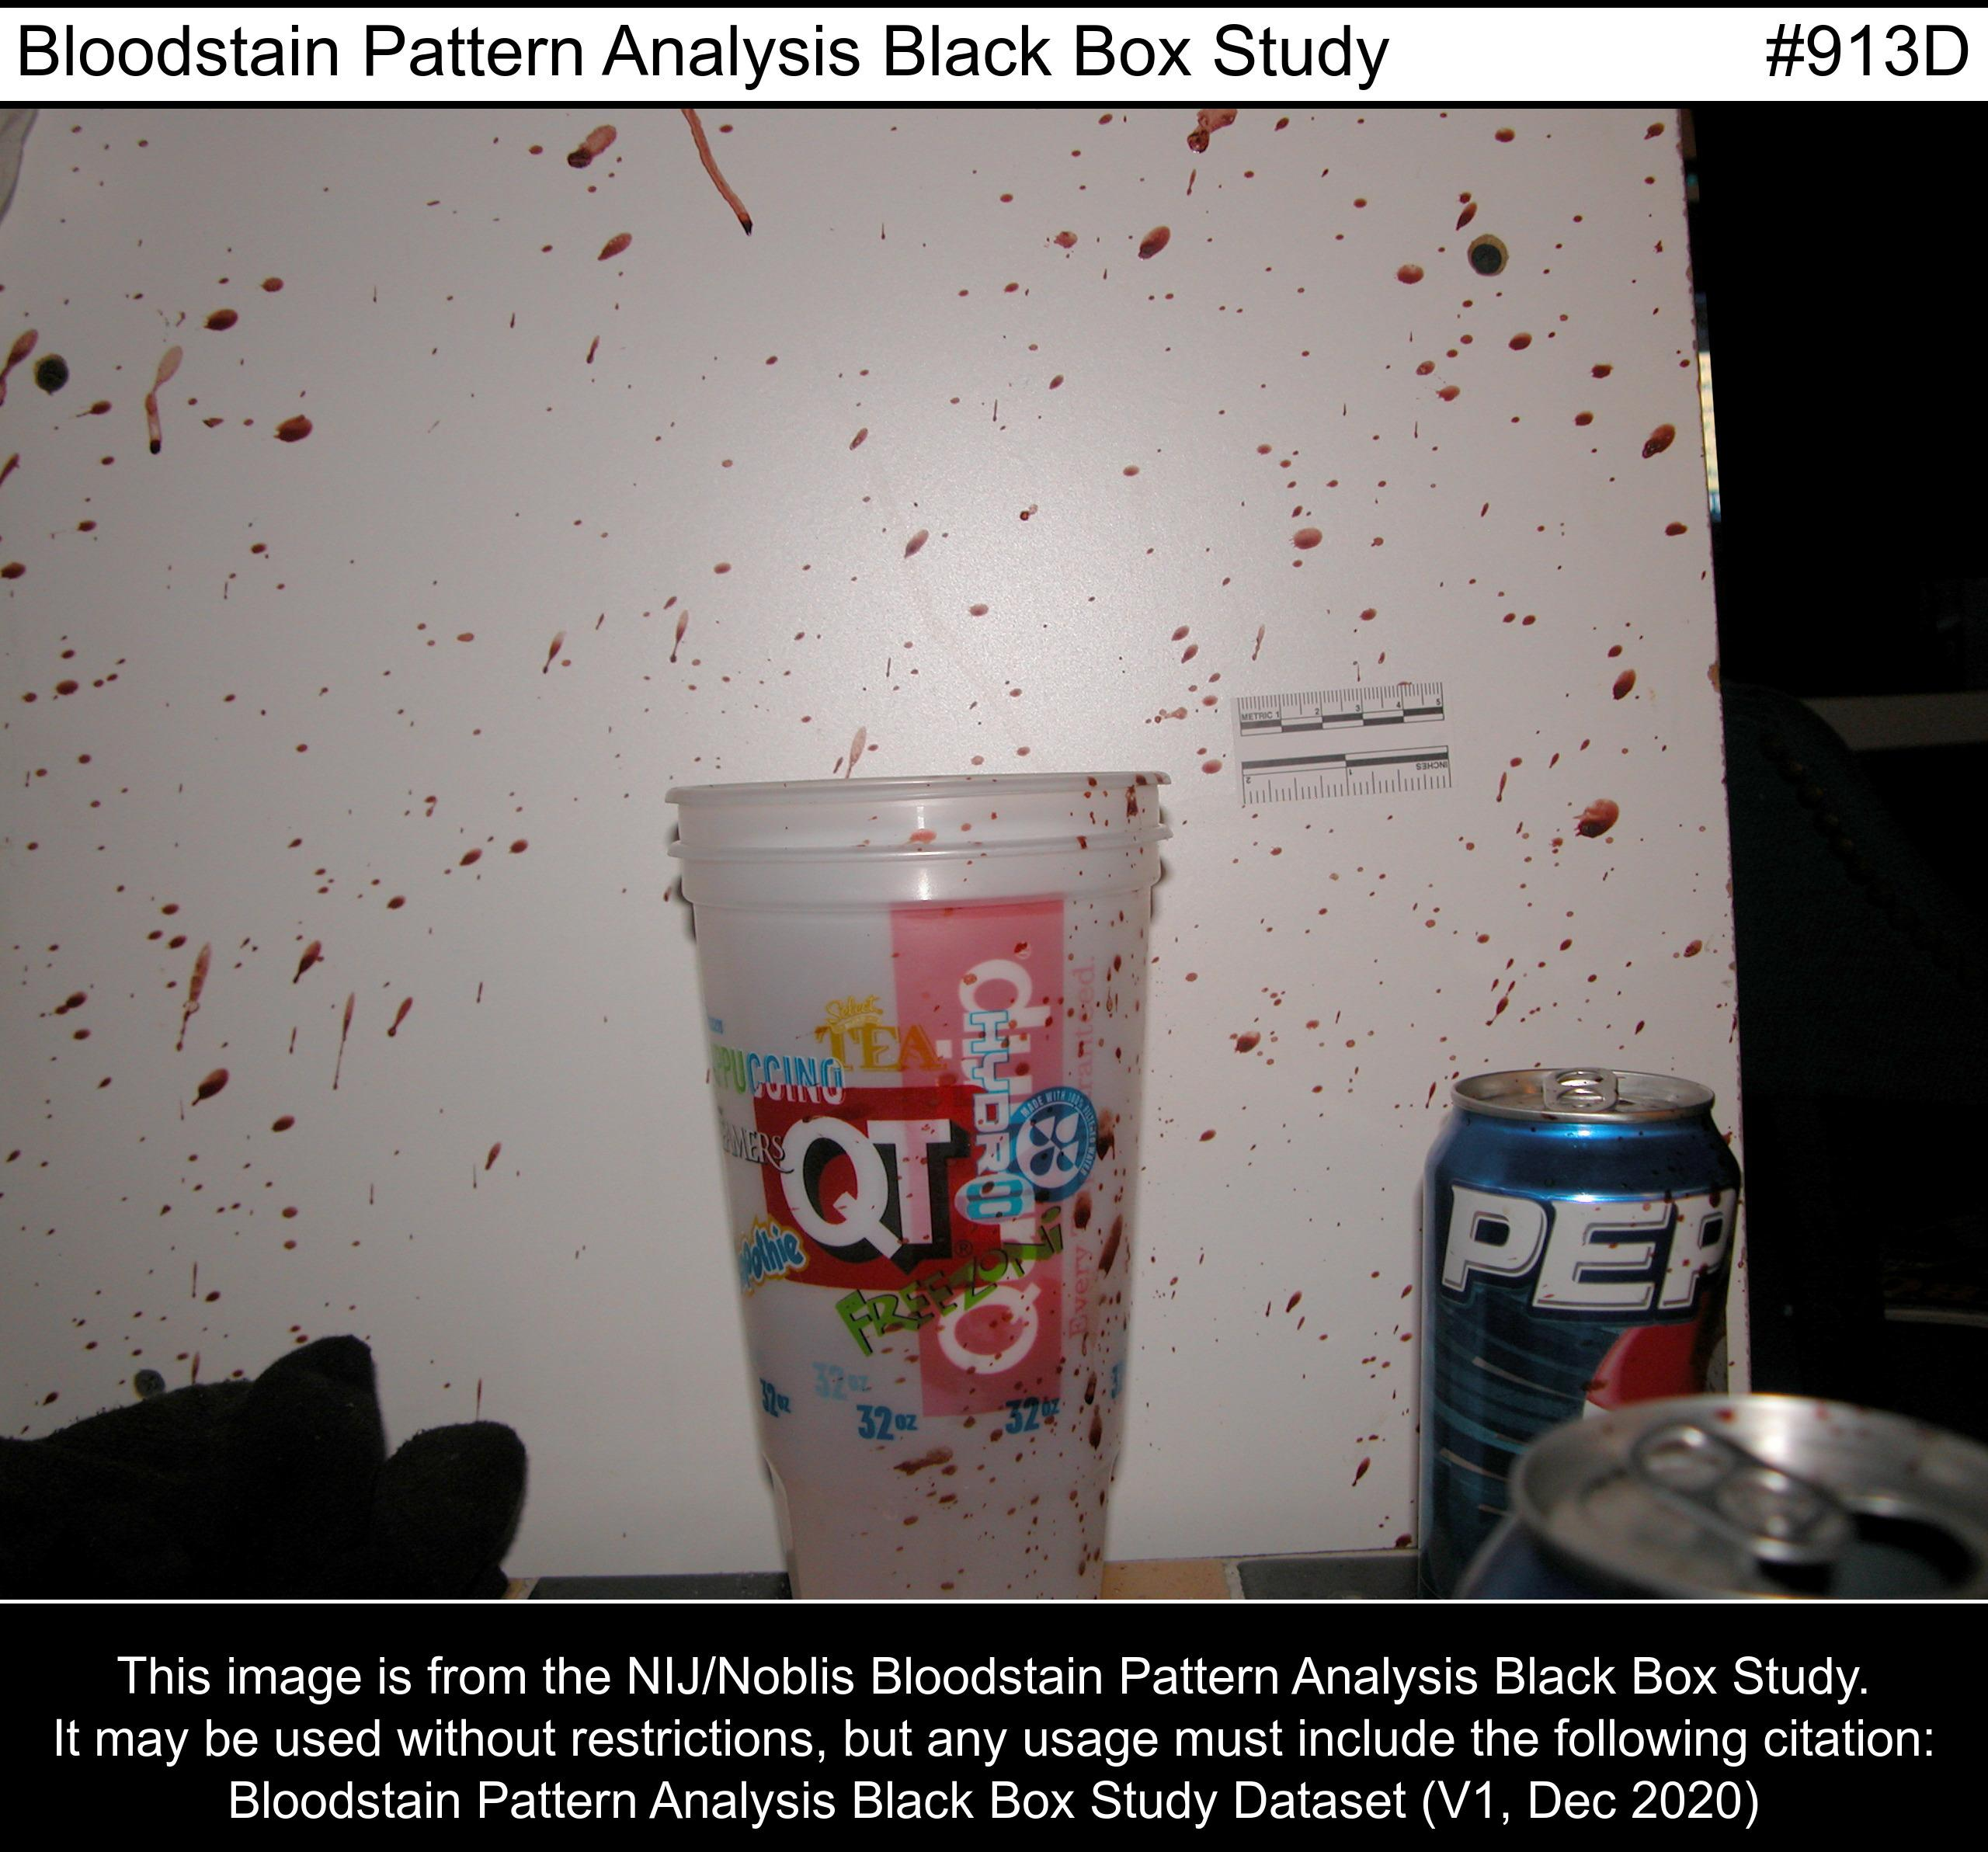Impact: (0, 104, 1678, 778)
